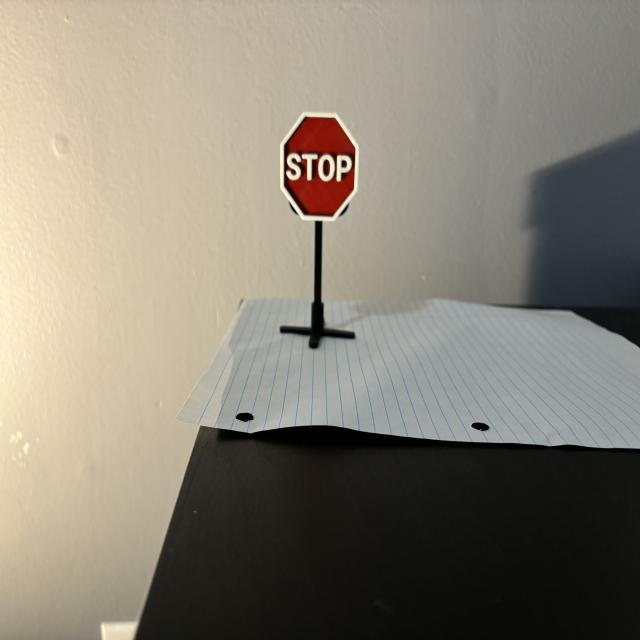sign_stop: (281, 113, 360, 222)
